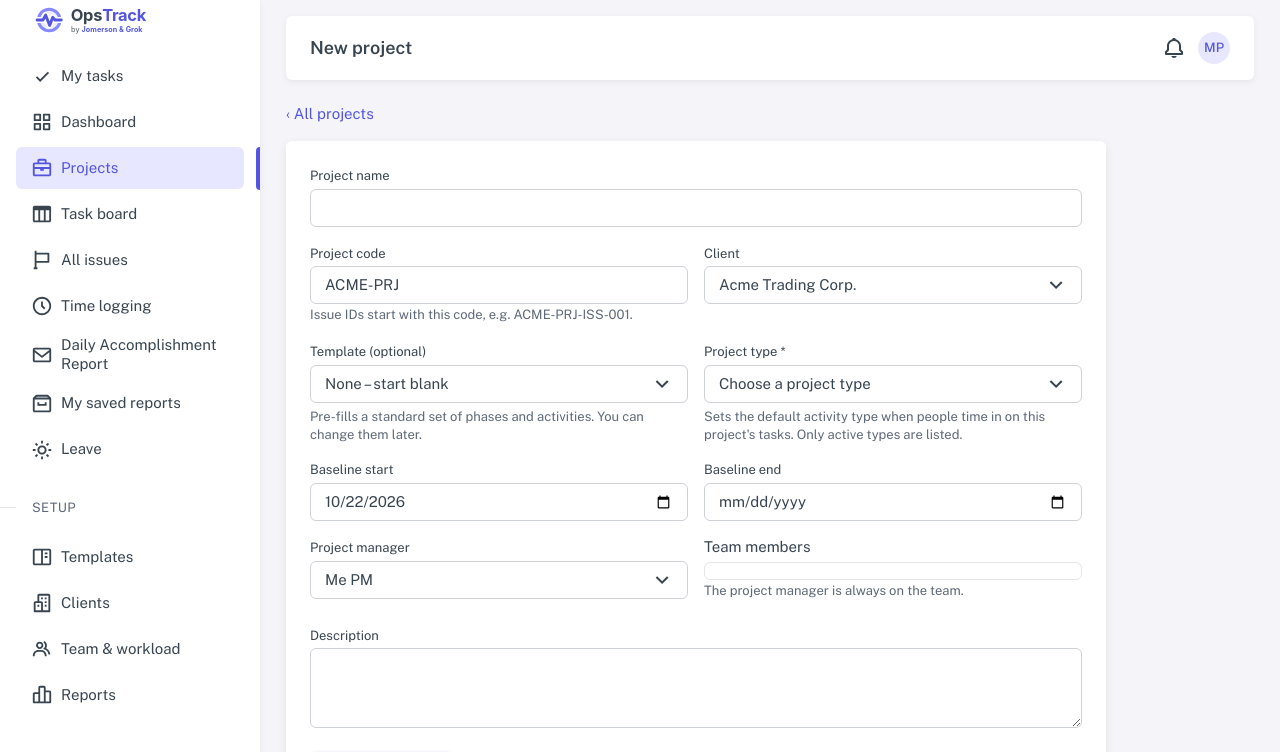
it: New project (FR-PRJ-01..04) › previews what the template generates and checks the end is after the start before saving
This screenshot has width=1280, height=752.
Check: the text "Pre-fills a standard set of phases and activities. You can change them later." is shown, box [310, 408, 688, 444]
Check: the dropdown labelled "Client" shows "Acme Trading Corp.", box [704, 266, 1082, 304]
Select "SAP B1 Implementation · v2 (SAP Business One)" in the dropdown labelled "Template (optional)" at (499, 384), box [310, 365, 688, 403]
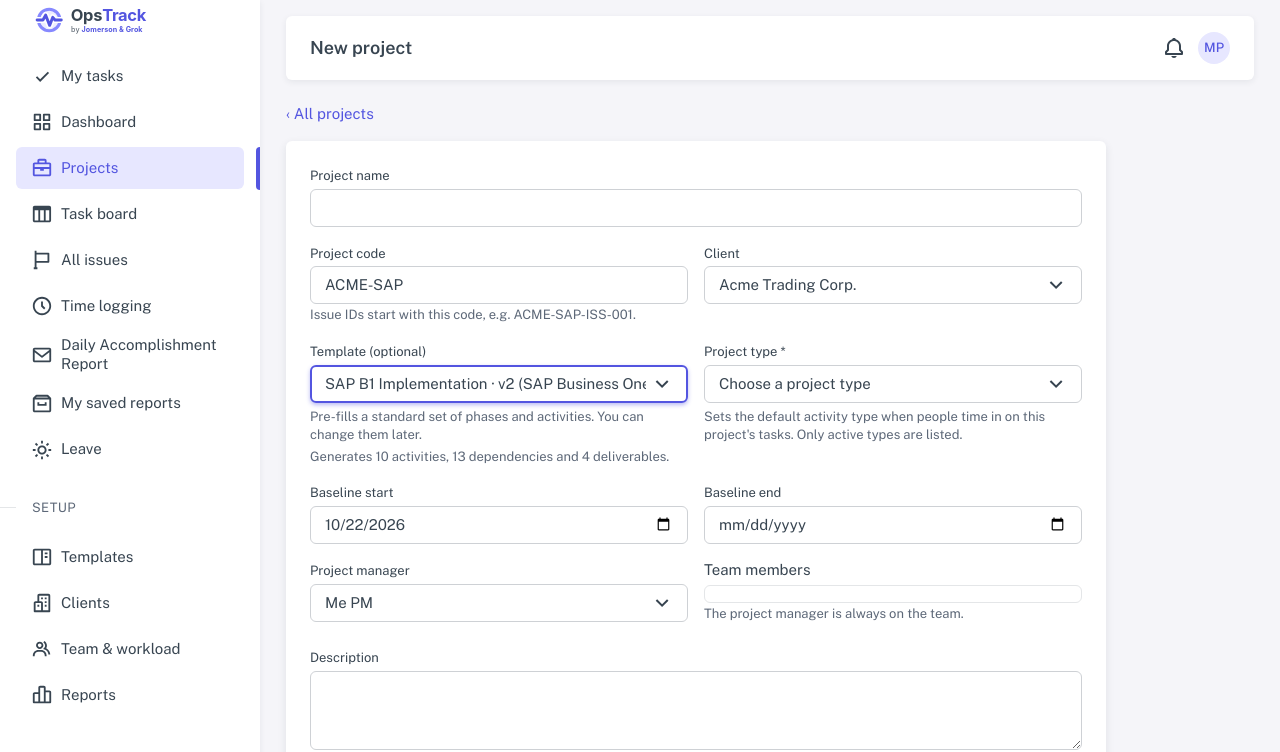
Check: the text with test id "template-preview" reads "Generates 10 activities, 13 dependencies and 4 deliverables.", box [310, 449, 669, 464]
Type "Rollout" into the field labelled "Project name" at (696, 208), box [310, 188, 1082, 226]
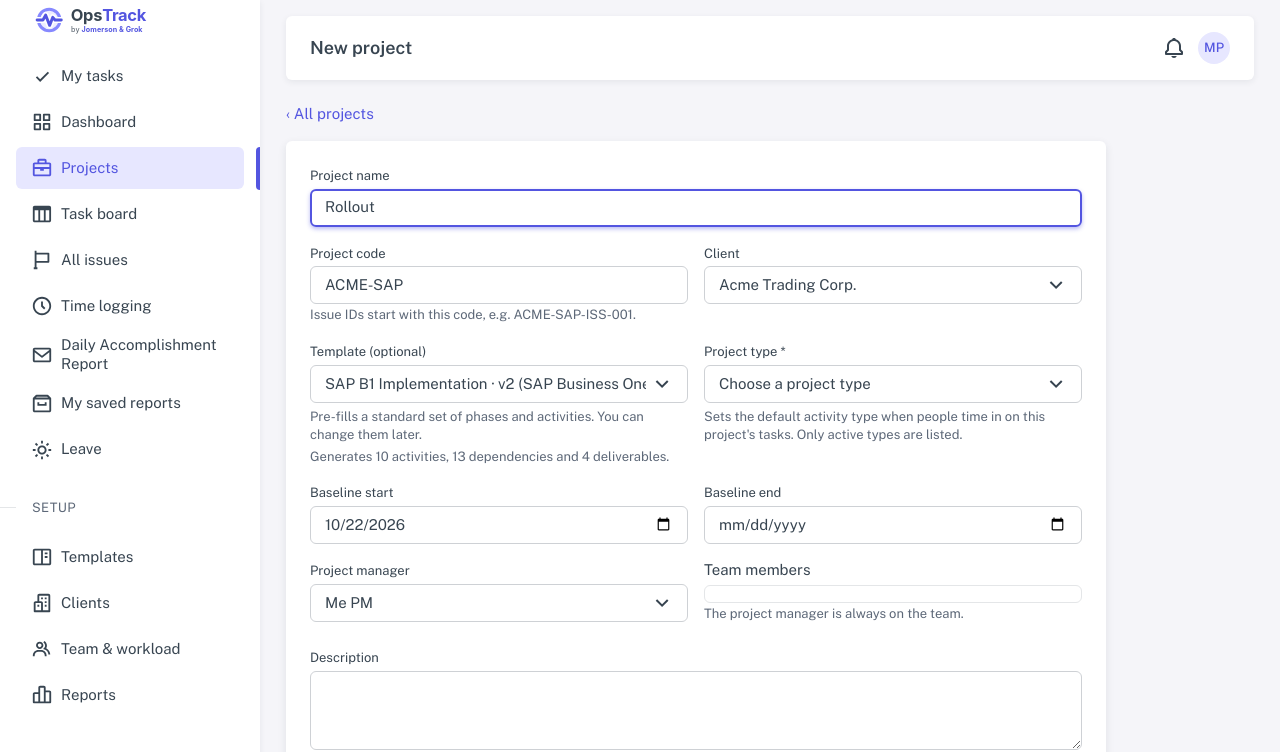
Type "2026-10-12" into the date field labelled "Baseline start" at (499, 525), box [310, 506, 688, 544]
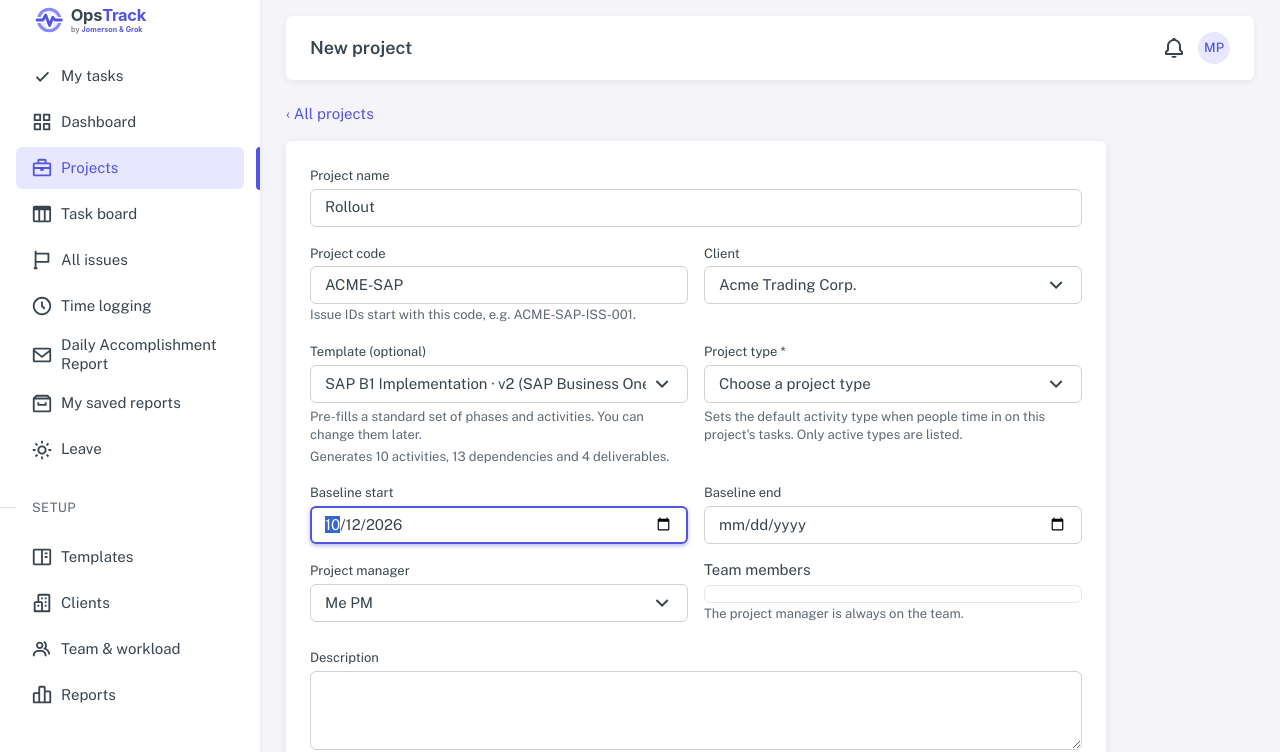
Type "2026-10-12" into the date field labelled "Baseline end" at (893, 525), box [704, 506, 1082, 544]
(page scrolled)
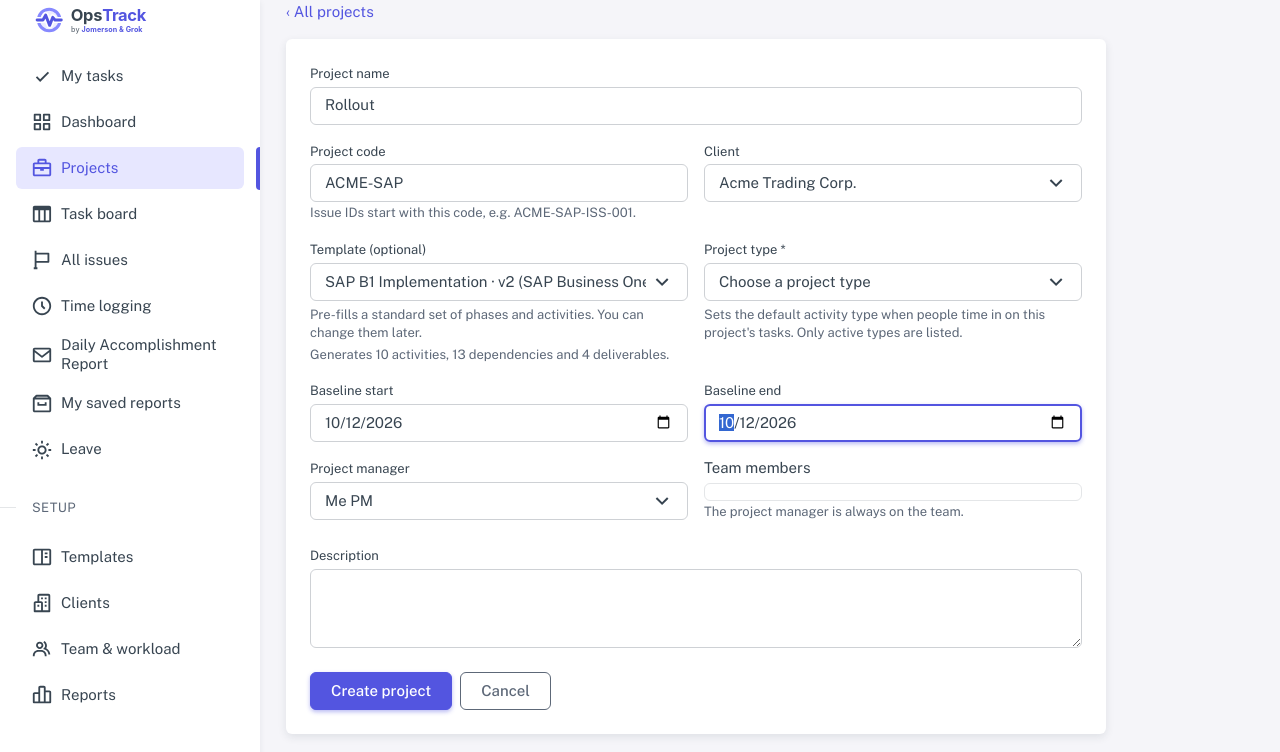
Click the button "Create project" at (381, 691), box [310, 672, 452, 710]
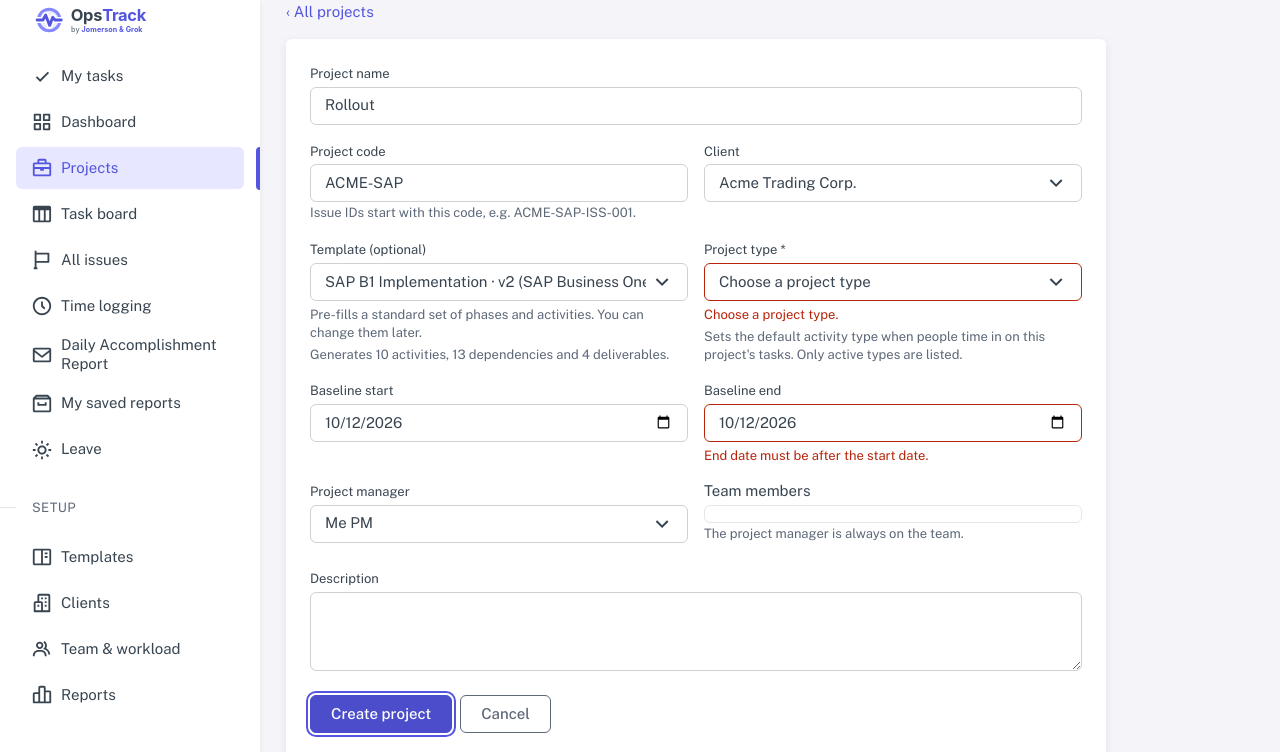
Check: the text "End date must be after the start date." is shown, box [704, 448, 928, 463]
